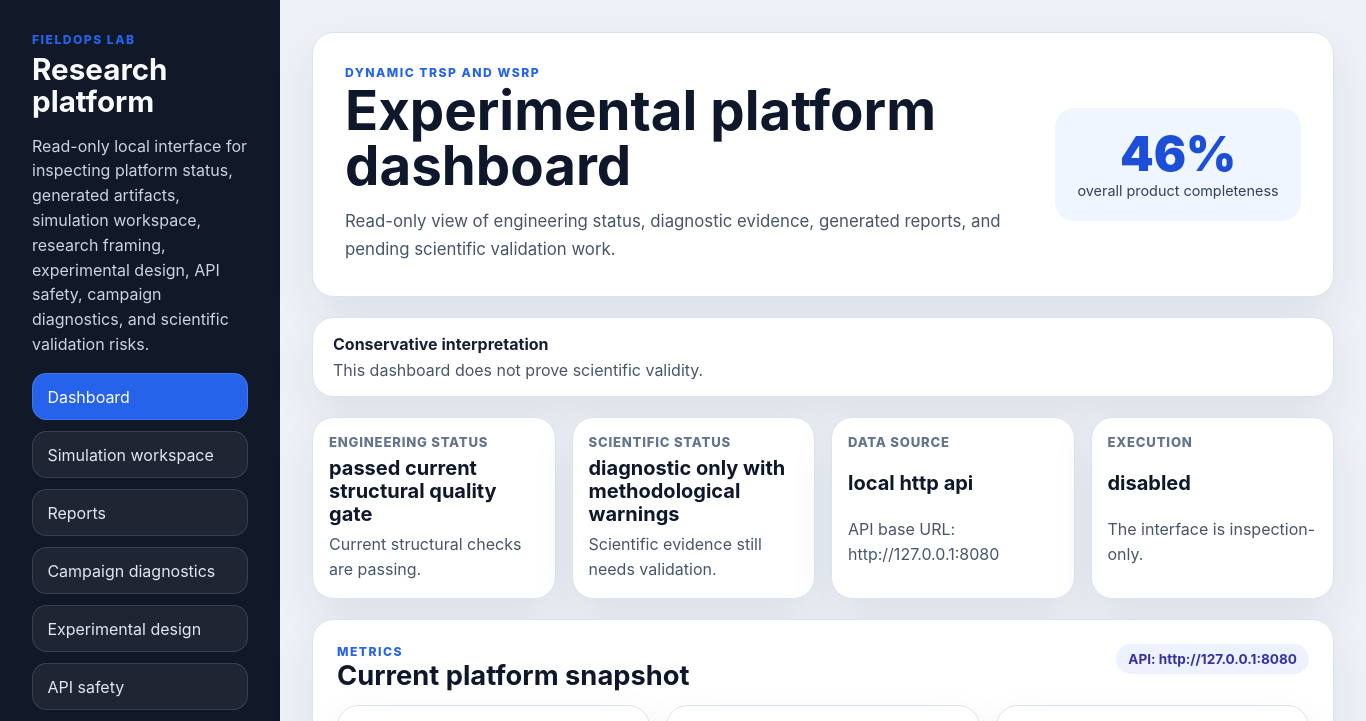
App dashboard › navigates to the experimental design page
expect the heading "Experimental platform dashboard" is shown: met, box [345,83,1023,192]
Click the button "Experimental design" at (140, 629), box [32,605,248,652]
(page scrolled)
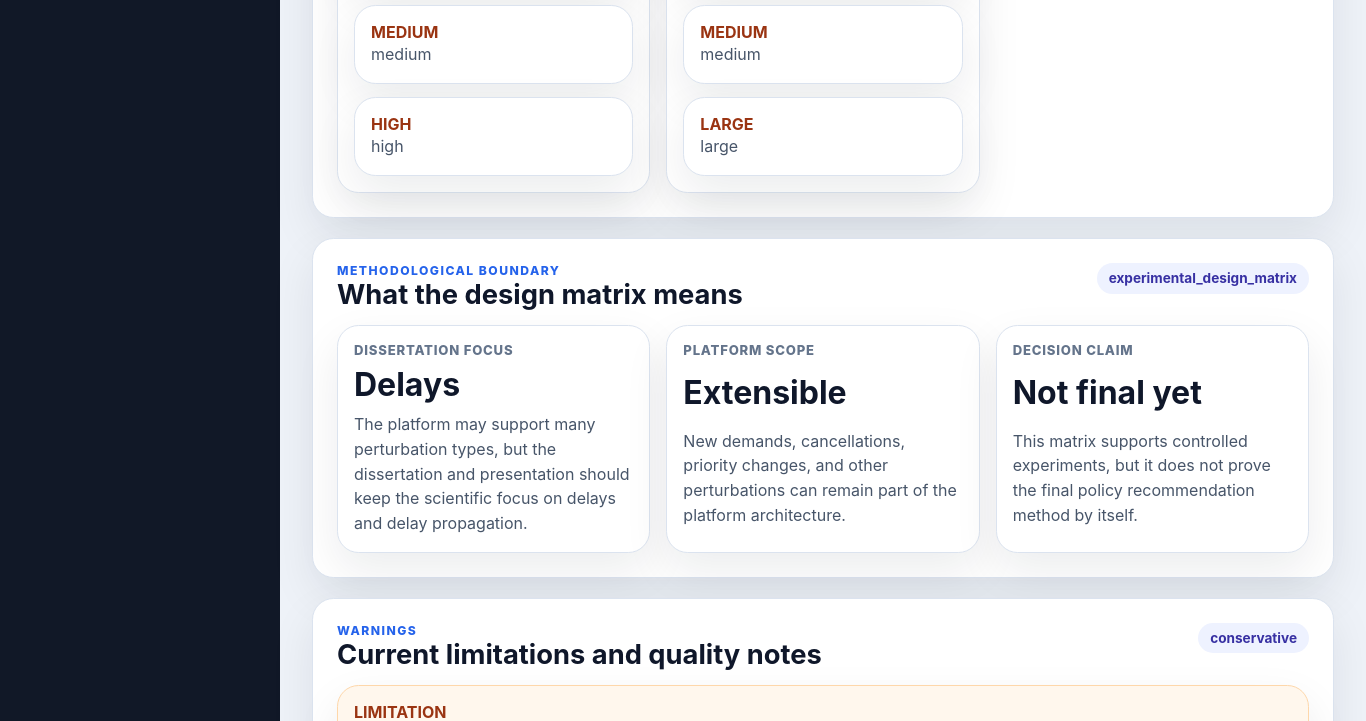
expect the text "Delays" is shown: met, box [354,364,460,404]
